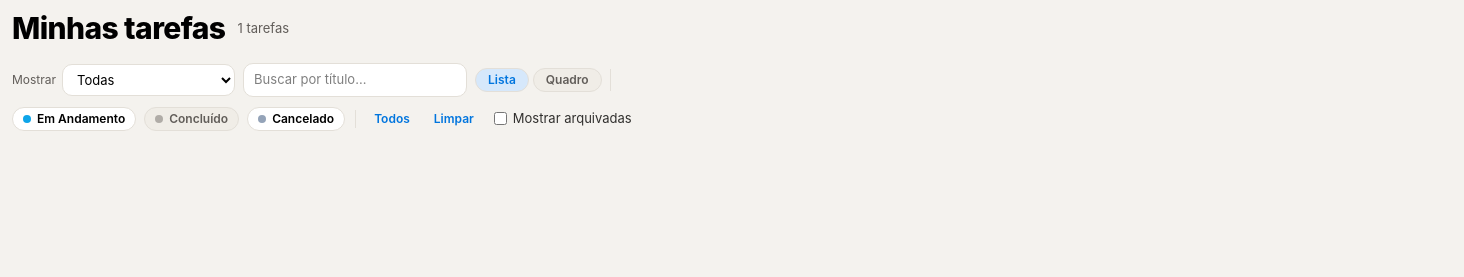
Test: minhas-tarefas -- o kanban le colunas da API (fatia 4c-2) › agrupa o card pela COLUNA, mesmo com o status dizendo outra coisa
What coordinates should you click on to do the following:
click the button "Quadro"
I would click on:
 (567, 80)
Its box is top-left (533, 68), bottom-right (602, 92).
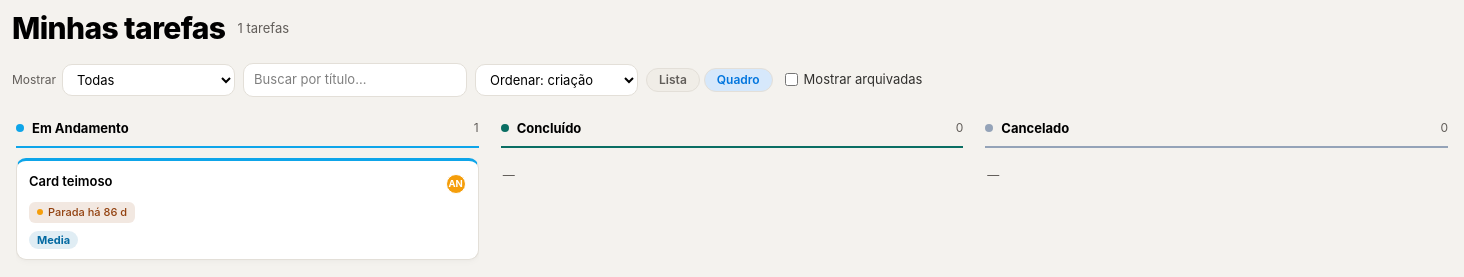
Expected: the text "Card teimoso" does not show "Concluído"
Now the text "Card teimoso" shows "Em Andamento", box top-left (32, 120), bottom-right (129, 136)
